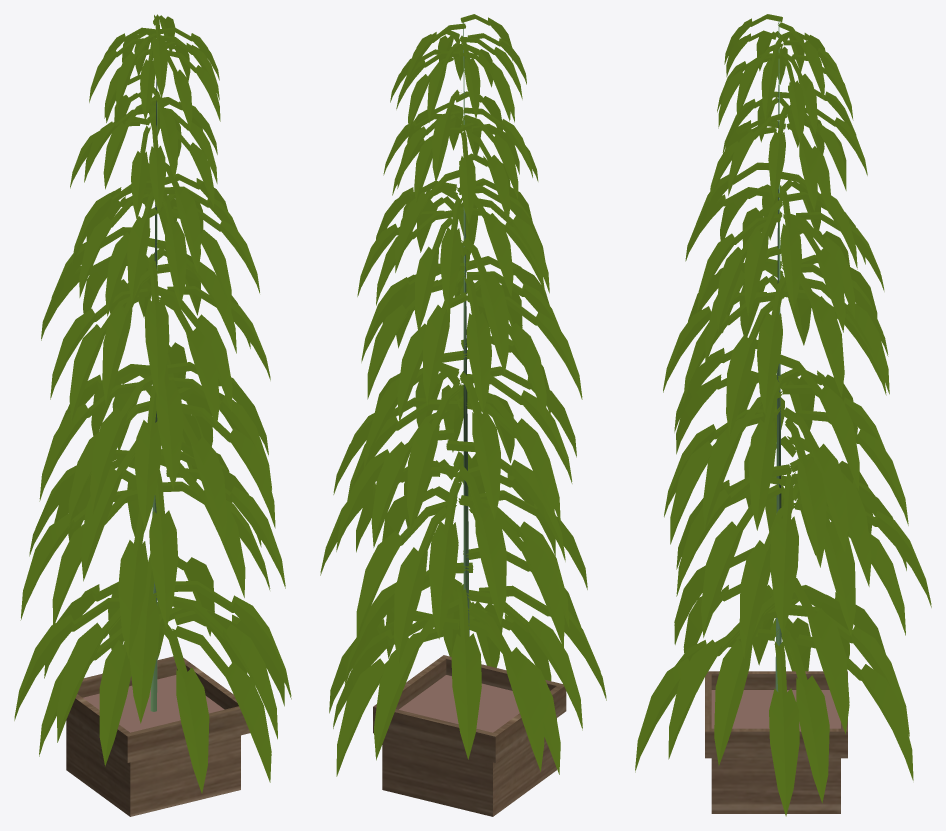
Rendered from Plant Large SHC QuickOffice.fbx.
The picture shows the model from 3 angles, left to right: view 1: azimuth 30°, elevation 25°; view 2: azimuth 150°, elevation 25°; view 3: azimuth 270°, elevation 25°; orthographic projection.
Parts seen in each view (by area): view 1: Component_106_1, Component_101_23, Component_101_17, Component_101_21, Component_101_10, Component_101_28, Component_101_100, Component_101_86, Component_101_113, Component_101_75, Component_101_107, Component_101_74 (+75 smaller); view 2: Component_106_1, Component_101_1, Component_101_16, Component_101_78, Component_101_26, Component_101_65, Component_101_84, Component_101_71, Component_101_7, Component_101_9, Component_103_1, Component_101_82 (+69 smaller); view 3: Component_106_1, Component_101_13, Component_101_3, Component_101_22, Component_101_12, Component_101_25, Component_101_62, Component_101_5, Component_101_93, Component_101_90, Component_101_103, Component_101_6 (+72 smaller).
Boxes of the visible parts, x1=… form: Component_106_1: x1=66, y1=656, x2=250, y2=816; Component_101_23: x1=176, y1=626, x2=271, y2=782; Component_101_17: x1=162, y1=624, x2=209, y2=793; Component_101_21: x1=173, y1=596, x2=277, y2=739; Component_101_10: x1=57, y1=608, x2=120, y2=742; Component_101_28: x1=99, y1=640, x2=126, y2=766; Component_101_100: x1=90, y1=375, x2=152, y2=514; Component_101_86: x1=118, y1=509, x2=142, y2=658; Component_101_113: x1=181, y1=403, x2=275, y2=528; Component_101_75: x1=157, y1=470, x2=178, y2=628; Component_101_107: x1=182, y1=412, x2=227, y2=543; Component_101_74: x1=81, y1=441, x2=135, y2=581; Component_106_1: x1=373, y1=655, x2=566, y2=816; Component_101_1: x1=471, y1=605, x2=544, y2=771; Component_101_16: x1=374, y1=599, x2=458, y2=760; Component_101_78: x1=356, y1=501, x2=447, y2=641; Component_101_26: x1=336, y1=628, x2=443, y2=776; Component_101_65: x1=472, y1=504, x2=564, y2=647; Component_101_84: x1=394, y1=506, x2=446, y2=664; Component_101_71: x1=459, y1=465, x2=506, y2=624; Component_101_7: x1=461, y1=588, x2=481, y2=759; Component_101_9: x1=469, y1=590, x2=582, y2=730; Component_103_1: x1=463, y1=22, x2=469, y2=636; Component_101_82: x1=429, y1=477, x2=458, y2=638; Component_106_1: x1=705, y1=671, x2=847, y2=813; Component_101_13: x1=794, y1=578, x2=849, y2=734; Component_101_3: x1=782, y1=630, x2=829, y2=802; Component_101_22: x1=668, y1=607, x2=775, y2=759; Component_101_12: x1=714, y1=595, x2=774, y2=765; Component_101_25: x1=798, y1=634, x2=913, y2=780; Component_101_62: x1=701, y1=484, x2=779, y2=637; Component_101_5: x1=779, y1=641, x2=799, y2=816; Component_101_93: x1=784, y1=407, x2=848, y2=553; Component_101_90: x1=739, y1=500, x2=793, y2=658; Component_101_103: x1=780, y1=354, x2=859, y2=490; Component_101_6: x1=769, y1=641, x2=785, y2=815.
Size of what is drawn, in the model's own units: 0.7924 by 2.32 by 0.808.
